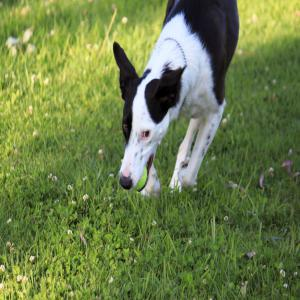TennisBall: (134, 167, 148, 192)
